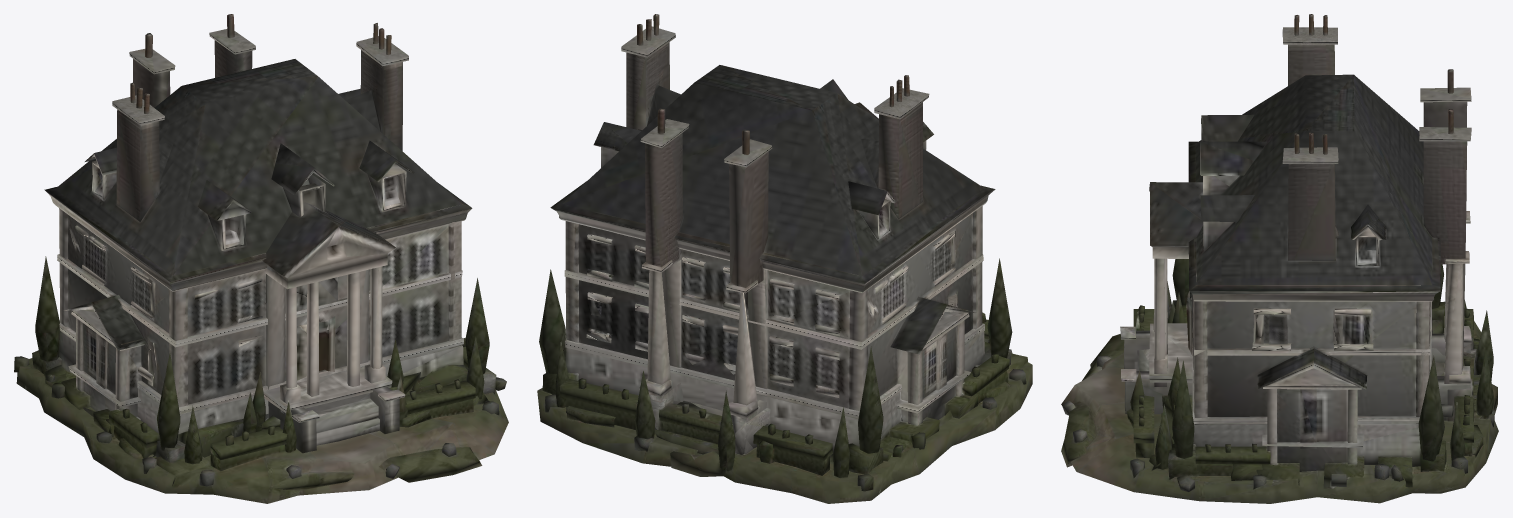
The model's file is upper_house_1.glb.
3 renders of one model, left to right at view 1: azimuth 30°, elevation 25°; view 2: azimuth 150°, elevation 25°; view 3: azimuth 270°, elevation 25°, orthographic. The views are drawn at different scales.
Parts seen in each view (by area): view 1: UpperHouse1Mesh; view 2: UpperHouse1Mesh; view 3: UpperHouse1Mesh.
Part boxes in pixels (x1=…): UpperHouse1Mesh: x1=14, y1=14, x2=508, y2=503; UpperHouse1Mesh: x1=537, y1=14, x2=1032, y2=503; UpperHouse1Mesh: x1=1061, y1=14, x2=1498, y2=503.
Size of the model in its own units: 2 by 1.74 by 2.
1 material, 1 textured.
